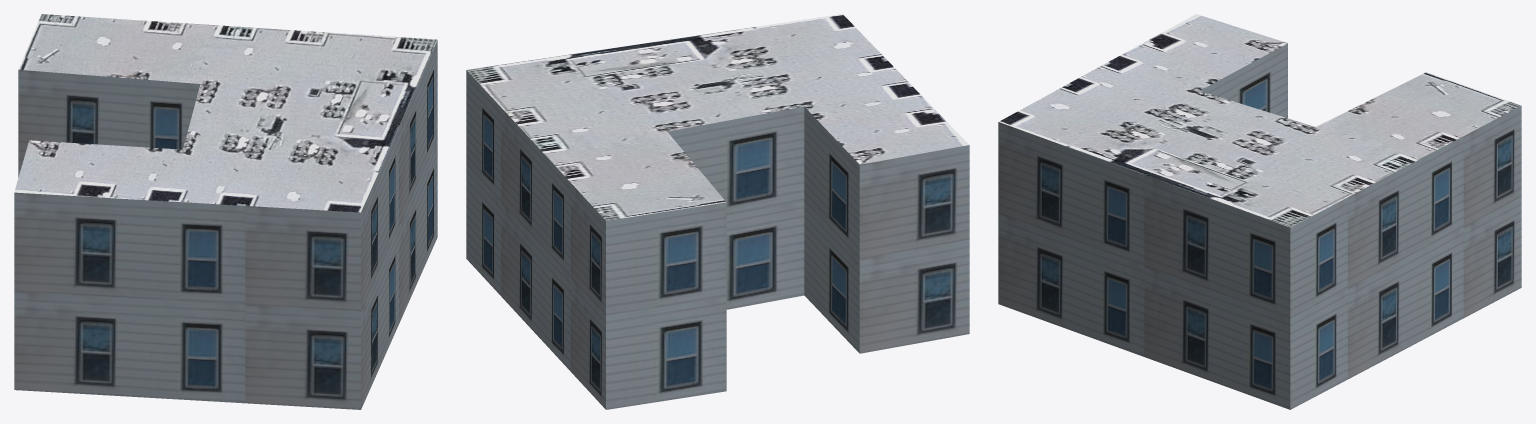
Rendered from ResTex__5182.fbx.
3 renders of one model, left to right at view 1: azimuth 30°, elevation 25°; view 2: azimuth 150°, elevation 25°; view 3: azimuth 270°, elevation 25°, orthographic. The views are drawn at different scales.
Visible parts, largest first — view 1: CityEngineMaterial_18_m, CityEngineMaterial_8_m; view 2: CityEngineMaterial_18_m, CityEngineMaterial_8_m; view 3: CityEngineMaterial_18_m, CityEngineMaterial_8_m.
Boxes of the visible parts, <box> form: CityEngineMaterial_18_m: <box>14,40,437,409</box>; CityEngineMaterial_8_m: <box>14,14,437,212</box>; CityEngineMaterial_18_m: <box>466,70,969,409</box>; CityEngineMaterial_8_m: <box>467,14,968,220</box>; CityEngineMaterial_18_m: <box>998,43,1521,409</box>; CityEngineMaterial_8_m: <box>999,14,1520,227</box>.
Size of the model in its own units: 15.09 by 6 by 15.61.
Materials: 2 (2 with a texture image).
